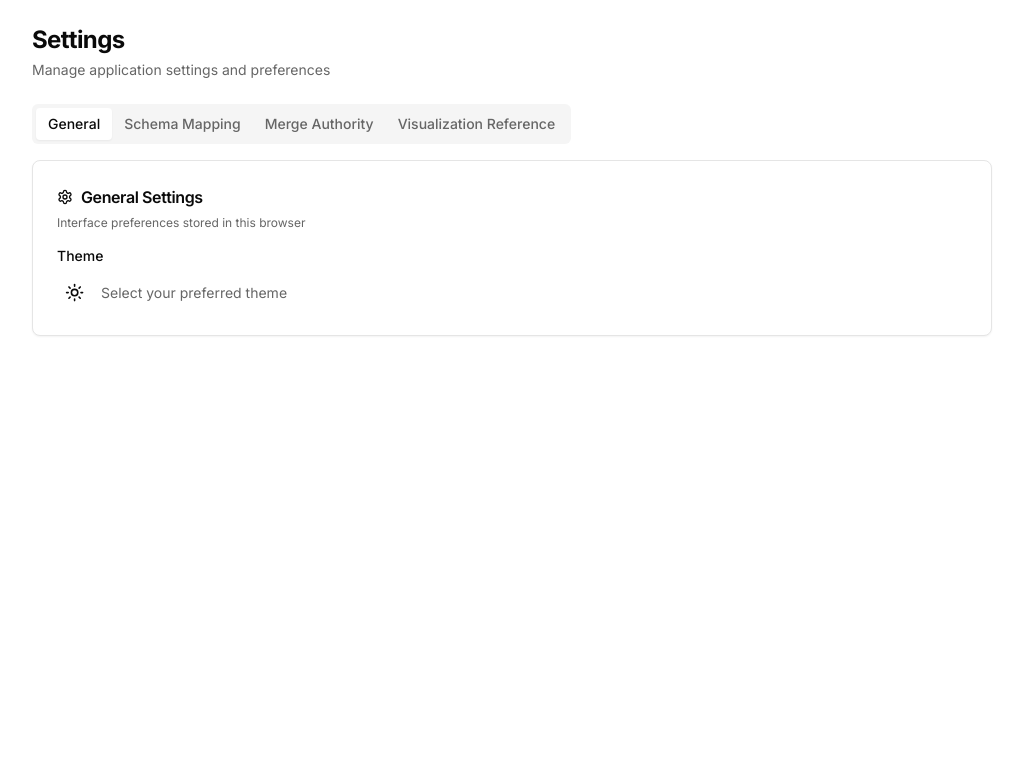
Settings page: Merge authority card › shows the card to an administrator with editing enabled
Click the tab "Merge Authority".
click(319, 124)  # box [253,108,386,140]
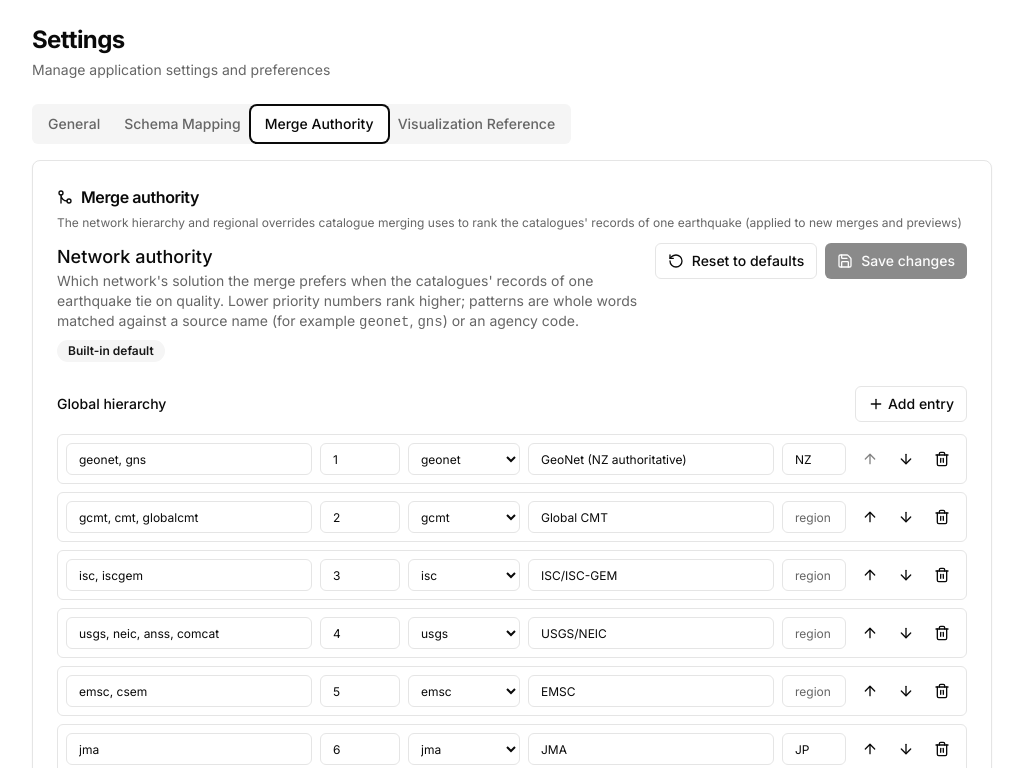
Now the text "network hierarchy and regional overrides" is shown, box [57,215,962,230]
Now the field named "Hierarchy 1 patterns" is enabled, box [66,443,312,475]
Now the button "Reset to defaults" is enabled, box [655,243,817,279]
